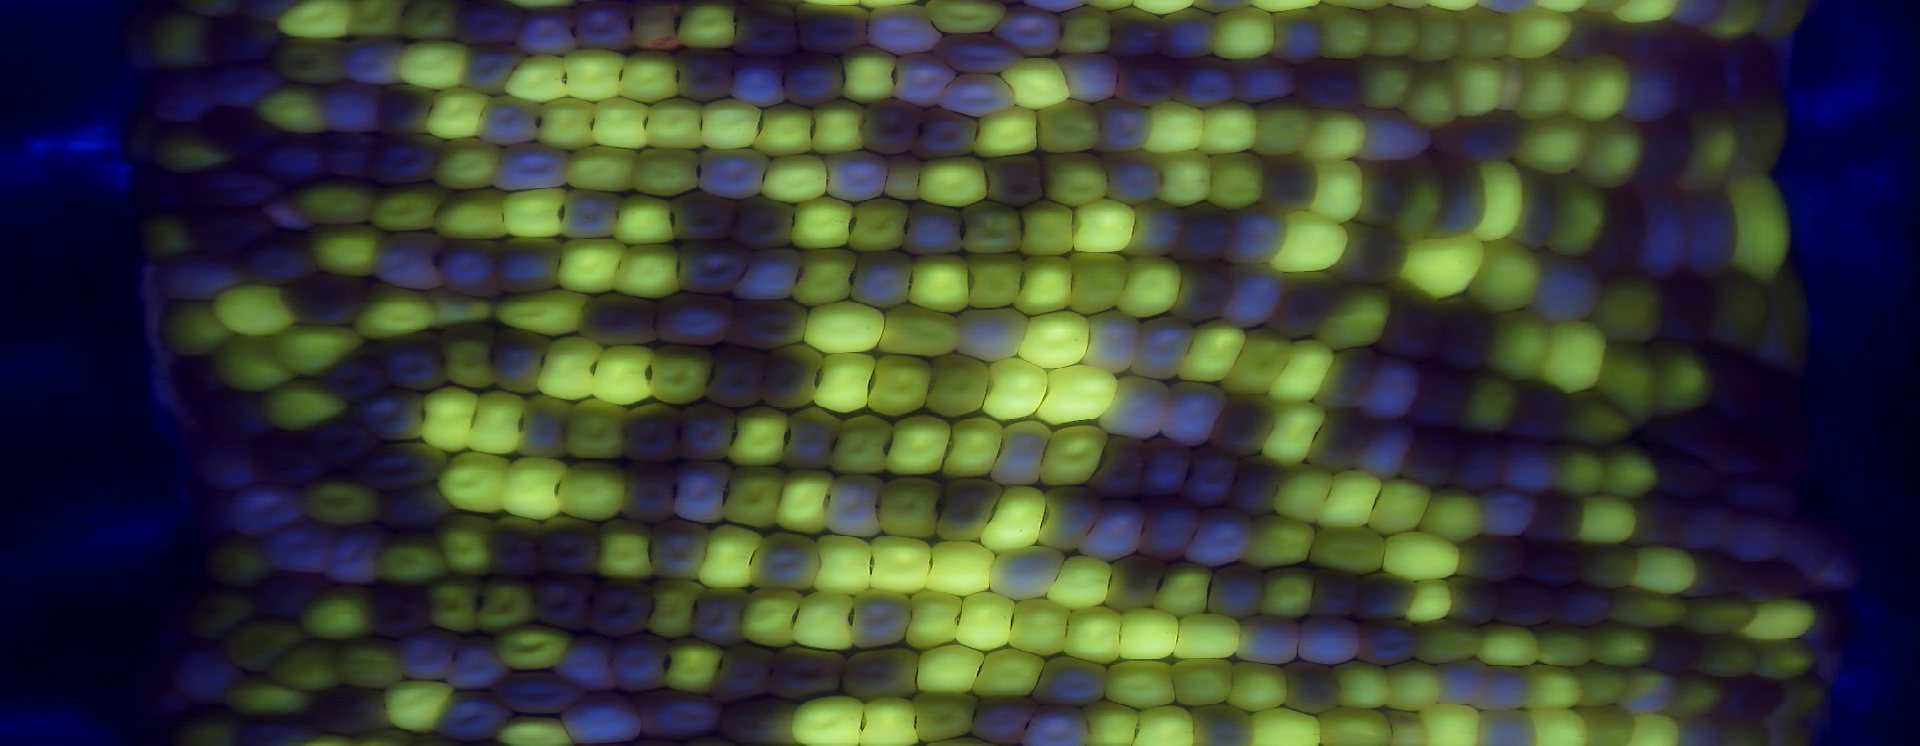fluorescent: (1728, 176, 1798, 292), (1472, 228, 1551, 316), (1596, 344, 1673, 434), (1709, 260, 1780, 353), (1727, 85, 1795, 180), (1401, 230, 1489, 301), (1649, 332, 1718, 423), (1596, 265, 1669, 345), (1030, 358, 1116, 425), (1018, 305, 1100, 375), (492, 283, 589, 341), (268, 322, 366, 379), (1680, 114, 1745, 198), (208, 336, 301, 394), (1760, 269, 1813, 369), (1000, 593, 1078, 661), (436, 451, 513, 519), (1580, 114, 1646, 194), (354, 281, 441, 341), (216, 619, 312, 673), (975, 355, 1051, 424), (500, 454, 568, 530), (874, 301, 969, 356), (813, 344, 879, 423), (429, 186, 520, 243), (1380, 523, 1469, 581), (803, 299, 891, 356), (1320, 283, 1393, 352), (864, 349, 933, 423), (920, 350, 993, 419), (1303, 518, 1392, 575), (696, 91, 770, 158), (1228, 326, 1293, 403), (1516, 113, 1596, 175), (300, 579, 380, 642), (1183, 318, 1253, 390), (1010, 252, 1082, 321), (980, 484, 1052, 552), (1273, 212, 1354, 273), (1491, 309, 1558, 383), (1063, 243, 1128, 318), (206, 285, 295, 341), (887, 410, 955, 481), (430, 510, 498, 581), (1041, 420, 1108, 492), (1474, 153, 1529, 241), (497, 183, 574, 245), (1315, 461, 1384, 530), (260, 381, 353, 432), (141, 9, 211, 77), (531, 333, 602, 401), (591, 344, 662, 412), (1418, 486, 1491, 551), (845, 196, 920, 260), (967, 646, 1051, 702), (1400, 60, 1464, 132), (376, 679, 460, 734), (785, 192, 862, 252), (1693, 624, 1771, 684), (1551, 171, 1605, 257), (1060, 603, 1131, 668), (923, 538, 996, 601), (299, 224, 388, 276), (609, 243, 688, 300), (944, 412, 1009, 481), (1272, 336, 1336, 407), (1573, 56, 1635, 130), (217, 673, 316, 718), (266, 639, 345, 696), (1542, 320, 1602, 394), (1505, 7, 1586, 62), (878, 477, 944, 544), (661, 632, 729, 698), (610, 187, 678, 252), (1100, 661, 1184, 714), (1271, 461, 1341, 524), (291, 183, 387, 229), (422, 83, 495, 145), (996, 56, 1078, 110), (398, 37, 480, 91), (789, 247, 862, 307), (778, 463, 838, 537), (1262, 399, 1327, 467), (418, 383, 482, 451), (811, 530, 879, 594), (1033, 96, 1106, 156), (1114, 604, 1187, 664), (367, 183, 456, 232), (1315, 4, 1382, 67), (629, 146, 709, 200), (789, 590, 857, 653), (503, 51, 579, 108), (829, 410, 899, 472), (553, 461, 624, 521), (555, 239, 627, 298), (1069, 200, 1142, 257), (1367, 474, 1433, 538), (953, 589, 1019, 653), (1307, 154, 1369, 222), (590, 89, 658, 152), (373, 533, 453, 586), (1251, 96, 1321, 156), (643, 345, 713, 405), (758, 153, 839, 205), (1042, 149, 1108, 212), (564, 402, 632, 463), (868, 534, 937, 594), (1311, 699, 1400, 746), (916, 154, 992, 208), (790, 697, 873, 746), (1147, 96, 1212, 158), (909, 252, 973, 315), (1209, 7, 1282, 62), (1113, 258, 1179, 320), (1248, 512, 1316, 571), (560, 47, 628, 105), (331, 639, 405, 693), (1464, 367, 1521, 439), (907, 586, 969, 650), (1202, 149, 1269, 209), (702, 521, 760, 588), (564, 147, 643, 197), (1164, 658, 1239, 710), (279, 36, 354, 88), (1629, 541, 1700, 597), (470, 388, 530, 453), (435, 140, 507, 194), (642, 98, 714, 152), (613, 47, 681, 104), (1018, 202, 1086, 258), (491, 621, 572, 669), (911, 642, 986, 693), (158, 300, 233, 352), (422, 576, 486, 636), (538, 91, 602, 149), (1518, 51, 1575, 119), (179, 584, 256, 633), (838, 45, 900, 105), (1446, 56, 1509, 116), (598, 519, 658, 582), (753, 100, 817, 159), (260, 83, 331, 136), (1198, 100, 1264, 157), (1528, 622, 1604, 671), (1046, 555, 1113, 610), (960, 255, 1029, 309), (973, 105, 1047, 156), (1569, 394, 1642, 445), (1171, 612, 1245, 661), (729, 409, 793, 465), (160, 121, 228, 175), (742, 590, 803, 649), (1580, 492, 1642, 550), (726, 465, 789, 523), (201, 537, 276, 584), (853, 697, 926, 746), (1223, 657, 1292, 708), (300, 481, 380, 526), (1303, 107, 1368, 160), (1332, 659, 1400, 710), (473, 575, 533, 632), (1365, 4, 1427, 60), (683, 1, 744, 58), (1413, 615, 1487, 661), (1477, 621, 1543, 673), (1517, 661, 1583, 713), (276, 1, 365, 39), (440, 323, 495, 385), (1682, 592, 1761, 635), (910, 690, 980, 737), (1457, 9, 1523, 59), (1351, 56, 1417, 107), (1156, 149, 1213, 207), (1549, 441, 1607, 499), (647, 579, 700, 641), (1382, 661, 1447, 712), (1259, 566, 1316, 622), (1596, 443, 1657, 496), (920, 1, 1010, 37), (1157, 563, 1220, 615), (1689, 1, 1763, 44), (1248, 703, 1322, 746), (1414, 6, 1464, 70), (1594, 625, 1664, 670), (495, 712, 587, 746), (1752, 597, 1820, 643), (1664, 675, 1730, 722), (426, 283, 496, 327), (808, 99, 866, 152), (1129, 702, 1198, 746), (1758, 631, 1824, 676), (1618, 590, 1696, 628), (1417, 699, 1479, 746), (1404, 575, 1458, 628), (133, 212, 191, 262), (1082, 699, 1144, 746), (1054, 7, 1109, 58), (1526, 706, 1593, 746), (1577, 664, 1633, 710), (178, 710, 250, 746), (400, 1, 460, 43), (351, 1, 411, 43), (1780, 675, 1837, 714), (1630, 710, 1685, 746)
nonfluorescent: (1653, 415, 1776, 473), (987, 538, 1073, 615), (1681, 183, 1749, 281), (304, 684, 410, 742), (632, 688, 738, 744), (1667, 47, 1742, 124), (1433, 158, 1498, 247), (1261, 272, 1342, 343), (984, 2, 1078, 64), (1594, 189, 1653, 282), (151, 247, 249, 303), (1635, 185, 1691, 279), (1534, 251, 1607, 325), (845, 250, 921, 318), (713, 691, 806, 746), (1103, 371, 1180, 437), (1384, 284, 1449, 363), (1075, 497, 1155, 561), (1439, 299, 1509, 371), (1720, 495, 1795, 562), (1755, 364, 1820, 441), (866, 1, 951, 59), (1256, 149, 1327, 218), (1163, 377, 1232, 448), (1183, 506, 1251, 577), (940, 477, 1005, 551), (733, 245, 811, 307), (1777, 507, 1854, 570), (650, 296, 740, 350), (748, 529, 827, 590), (189, 167, 287, 216), (1172, 258, 1242, 327), (584, 573, 656, 639), (200, 379, 276, 441), (485, 145, 574, 197), (1633, 111, 1693, 190), (1216, 390, 1281, 462), (1096, 145, 1169, 208), (1353, 412, 1417, 485), (351, 441, 444, 491), (223, 488, 313, 539), (800, 1, 884, 56), (533, 518, 609, 579), (1709, 463, 1798, 516), (1620, 51, 1682, 125), (1222, 51, 1305, 107), (623, 453, 681, 533), (1431, 111, 1524, 160), (1224, 443, 1283, 521), (643, 513, 711, 579), (1035, 484, 1104, 549), (365, 581, 436, 644), (1654, 272, 1717, 344), (1082, 309, 1145, 381), (1733, 550, 1811, 608), (246, 230, 324, 288), (673, 240, 753, 296), (980, 151, 1049, 214), (954, 307, 1031, 365), (1344, 220, 1407, 292), (1220, 258, 1281, 331), (193, 434, 266, 495), (1446, 532, 1528, 586), (840, 643, 922, 697), (264, 516, 343, 572), (1615, 24, 1735, 61), (580, 293, 664, 345), (560, 641, 629, 703), (1351, 157, 1409, 230), (1206, 559, 1272, 624), (324, 523, 392, 587), (691, 149, 771, 202), (351, 394, 429, 450), (1133, 311, 1191, 383), (174, 642, 246, 701), (562, 696, 647, 746), (1182, 439, 1239, 512), (991, 423, 1056, 488), (729, 303, 814, 352), (760, 341, 820, 410), (491, 243, 567, 298), (931, 31, 1031, 72), (1227, 202, 1298, 261), (665, 192, 743, 245), (1414, 356, 1469, 431), (251, 129, 326, 184), (1455, 430, 1515, 499), (377, 233, 448, 290), (1271, 5, 1327, 77), (1234, 612, 1307, 669), (771, 647, 844, 703), (1358, 110, 1435, 163), (496, 671, 583, 718), (1359, 359, 1419, 426), (683, 586, 751, 646), (1120, 205, 1189, 263), (617, 404, 692, 458), (943, 71, 1025, 120), (670, 456, 726, 527), (778, 51, 850, 107), (1138, 499, 1201, 561), (1091, 96, 1157, 156), (1657, 446, 1723, 506), (486, 513, 546, 579), (709, 648, 778, 706), (733, 1, 803, 58), (249, 575, 331, 622), (558, 187, 629, 243), (824, 477, 888, 538), (291, 276, 371, 325), (1319, 345, 1384, 405), (1718, 353, 1772, 425), (1516, 168, 1561, 254), (1035, 653, 1108, 706), (820, 148, 889, 205), (1107, 552, 1176, 609), (146, 72, 220, 124), (331, 33, 402, 87), (260, 439, 331, 492), (915, 105, 980, 164), (206, 62, 285, 110), (785, 404, 841, 472), (669, 45, 737, 100), (605, 630, 673, 685), (1311, 408, 1373, 469), (1176, 198, 1236, 261), (518, 399, 578, 462), (484, 326, 542, 390), (442, 693, 513, 746), (396, 628, 460, 686), (531, 573, 599, 628), (311, 129, 380, 183), (1404, 428, 1463, 490), (670, 404, 732, 463), (1163, 6, 1227, 64), (1524, 488, 1589, 544), (1144, 428, 1195, 499), (1185, 699, 1264, 746), (1174, 51, 1240, 107), (571, 1, 643, 51), (709, 344, 768, 405), (1522, 540, 1588, 594), (300, 420, 378, 465), (322, 349, 389, 402), (1356, 568, 1424, 620), (1473, 484, 1536, 540), (372, 489, 457, 530), (729, 56, 792, 111), (476, 98, 546, 148), (1051, 49, 1116, 103), (451, 1, 529, 45), (1505, 381, 1562, 441), (1510, 432, 1567, 492), (444, 635, 506, 691), (1106, 4, 1169, 58), (201, 18, 285, 59), (1671, 499, 1738, 550), (364, 135, 438, 180), (626, 1, 686, 58), (1346, 616, 1418, 663), (1648, 624, 1718, 671), (1297, 56, 1363, 107), (885, 51, 951, 102), (189, 213, 276, 251), (323, 78, 386, 131), (733, 198, 798, 249), (378, 341, 448, 387), (1286, 660, 1342, 718), (459, 47, 525, 96), (902, 205, 962, 258), (1096, 434, 1147, 496), (1629, 494, 1682, 552), (176, 347, 230, 405), (1018, 704, 1093, 746), (209, 113, 276, 160), (132, 170, 198, 218), (1433, 657, 1490, 710), (1495, 581, 1560, 628), (1311, 560, 1364, 619), (1724, 39, 1784, 91), (863, 102, 924, 152), (520, 13, 582, 64), (969, 697, 1040, 740), (853, 590, 907, 647), (1551, 7, 1609, 60), (1442, 571, 1500, 624), (1300, 616, 1360, 666), (1723, 668, 1784, 717), (437, 238, 490, 294), (1553, 577, 1615, 624), (1116, 54, 1171, 107), (382, 80, 438, 131), (1469, 707, 1540, 746), (1625, 669, 1675, 724), (1482, 663, 1533, 714), (1687, 546, 1735, 601), (238, 715, 307, 746), (1674, 715, 1720, 746)
